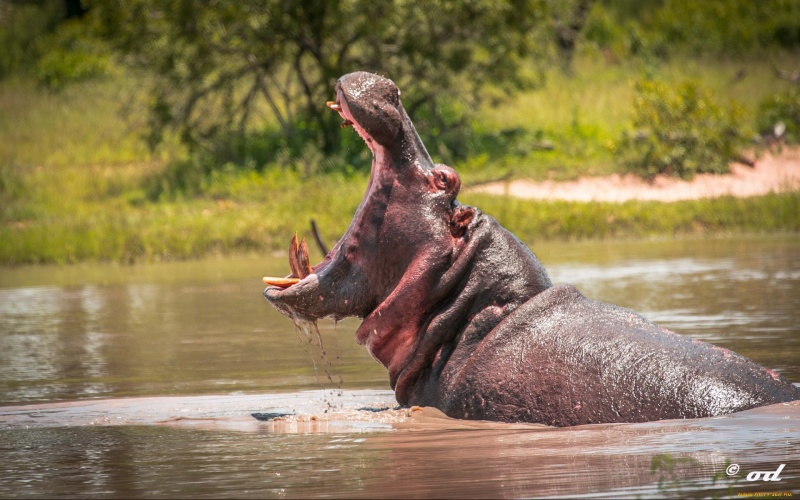hipopotamo: (254, 64, 800, 429)
